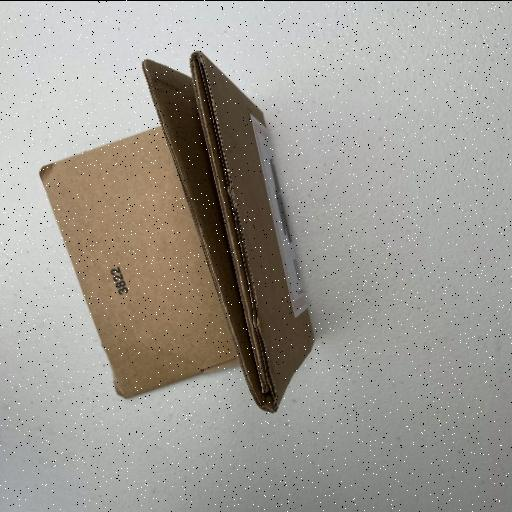Cardboard: (38, 49, 316, 413)
